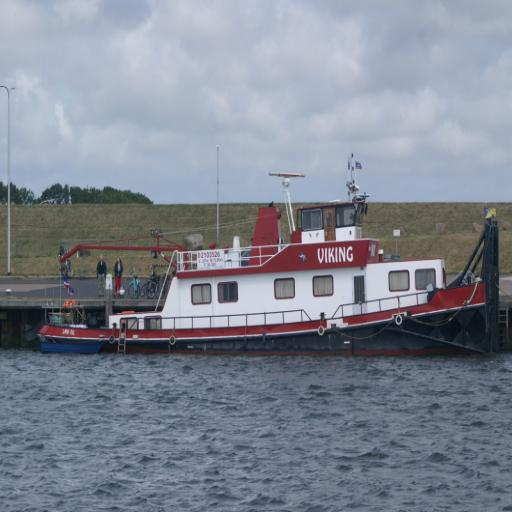tugboat: (38, 170, 504, 368)
